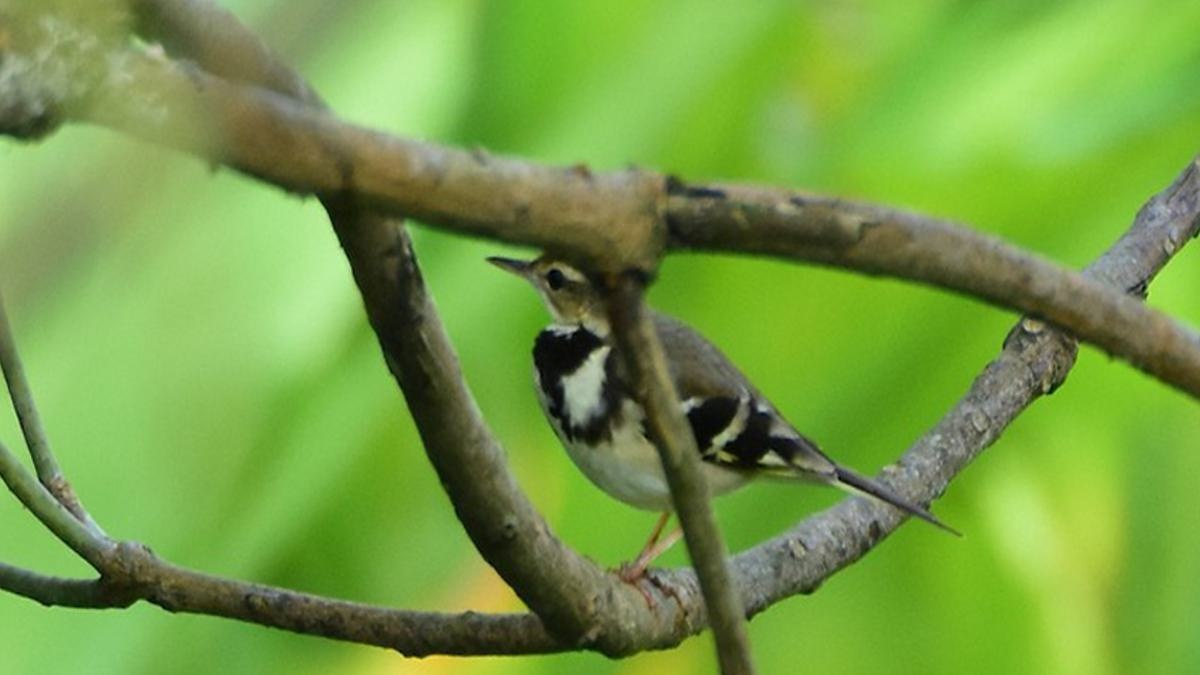wagtail: (527, 244, 867, 540)
